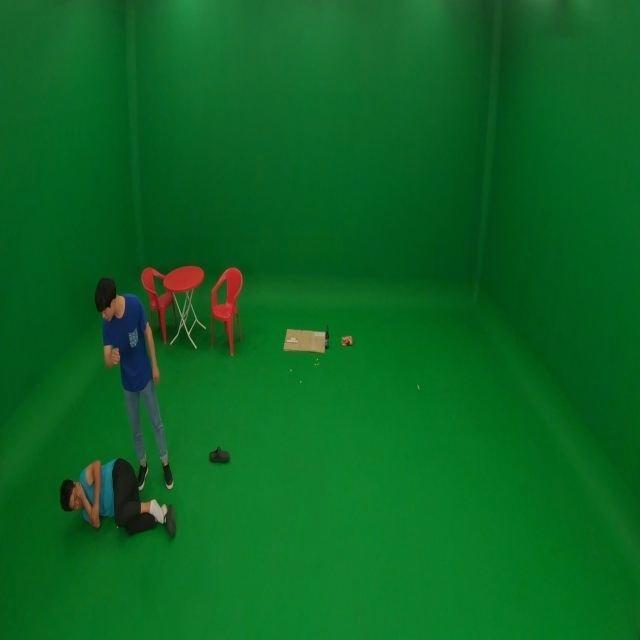fight: (58, 277, 175, 536)
